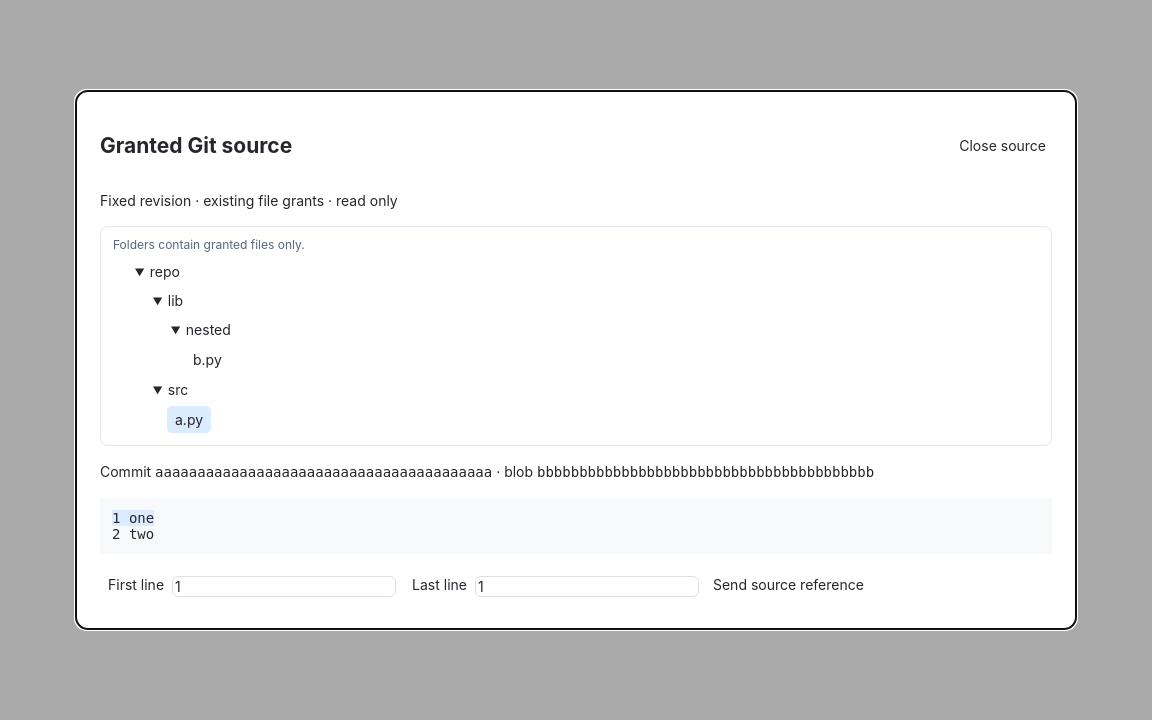
Test case: shows only current-room granted folders and loads the selected file
Expected: the text "two" is shown, [129,526,154,542]
What coordinates should you click on to do the following:
click the button with aria-label "Open repo / lib/nested/b.py"
I would click on:
 (207, 359)
Its box is [185,346,230,373].
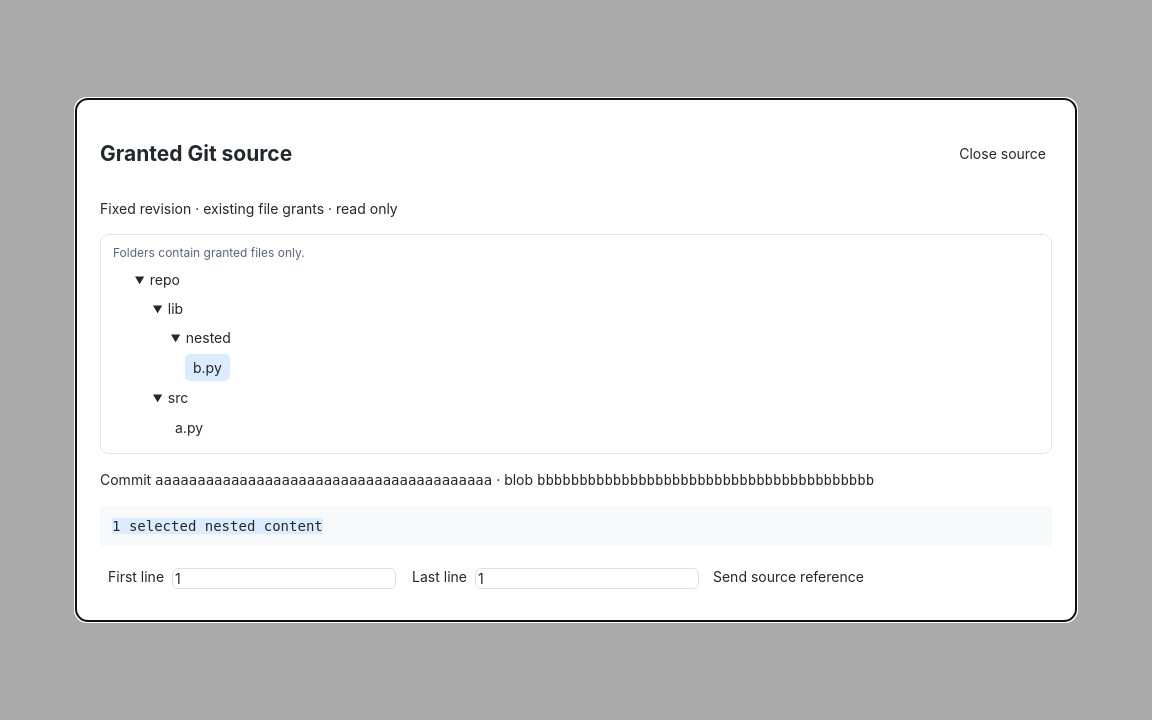
Expected: the text "selected nested content" is shown, [129,518,323,534]
